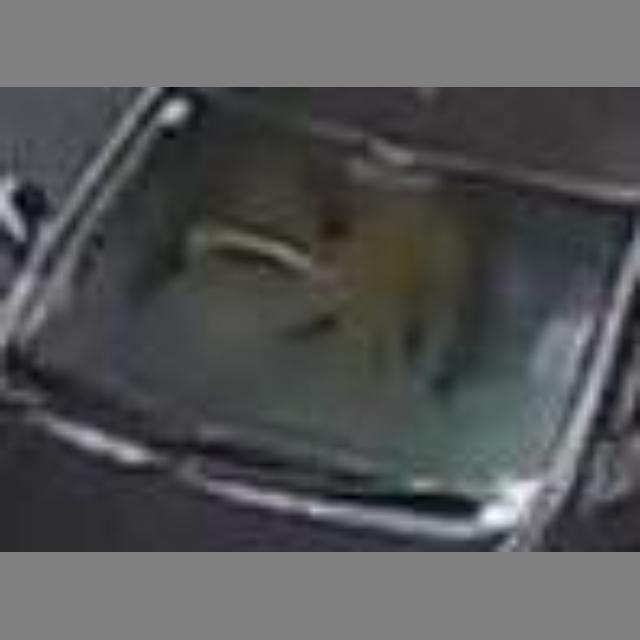pakai: (200, 119, 478, 404)
